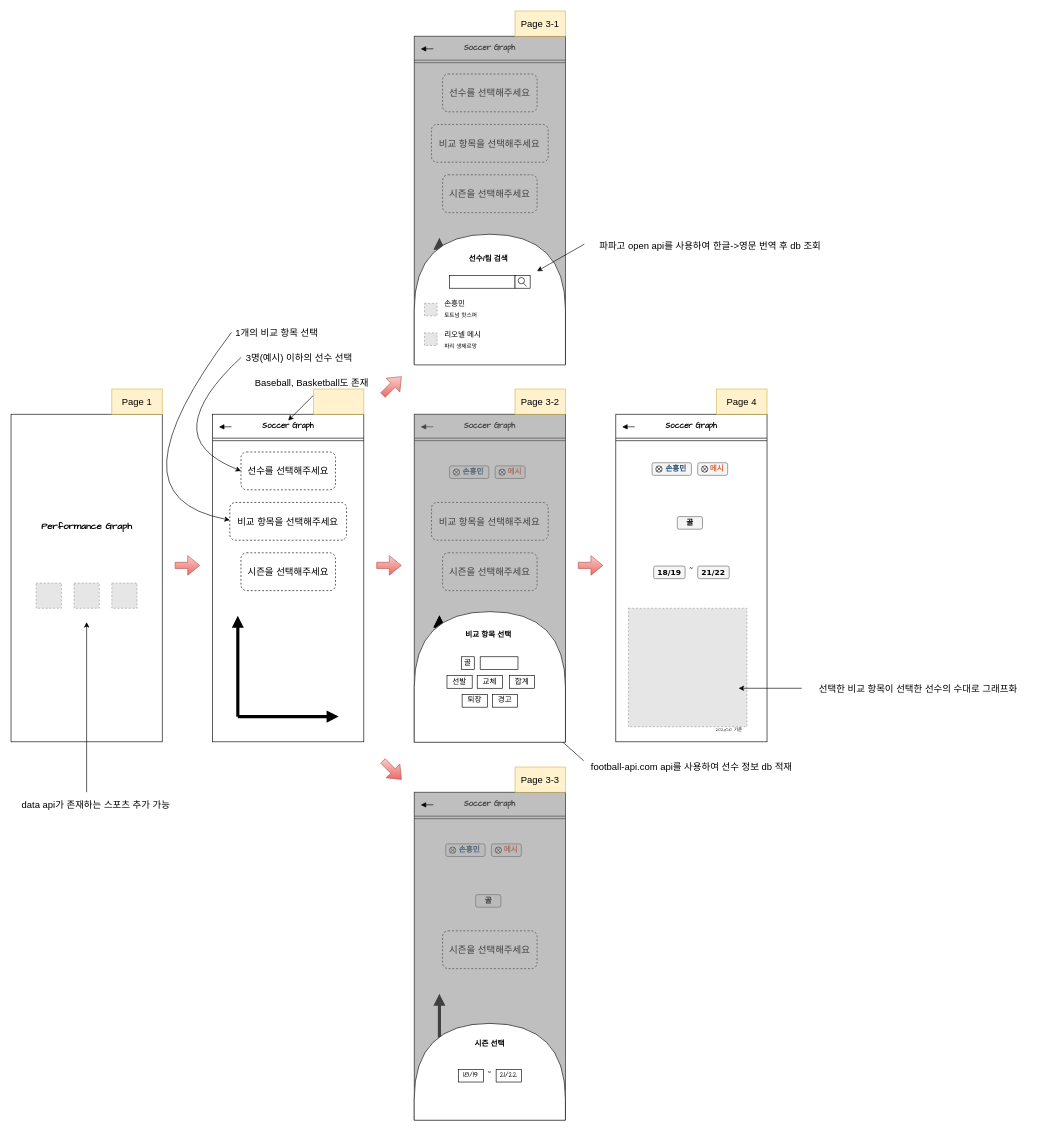
Some shapes in this 1043 by 1131 pixel diagram are drawn without their labels. Grey dashed boxes stand in for pictures. Here are the shapes that lost their labels. From the top down, the centre of each, then its label:
At (338,401): "Page 2".
At (499,662): "출전시간".
